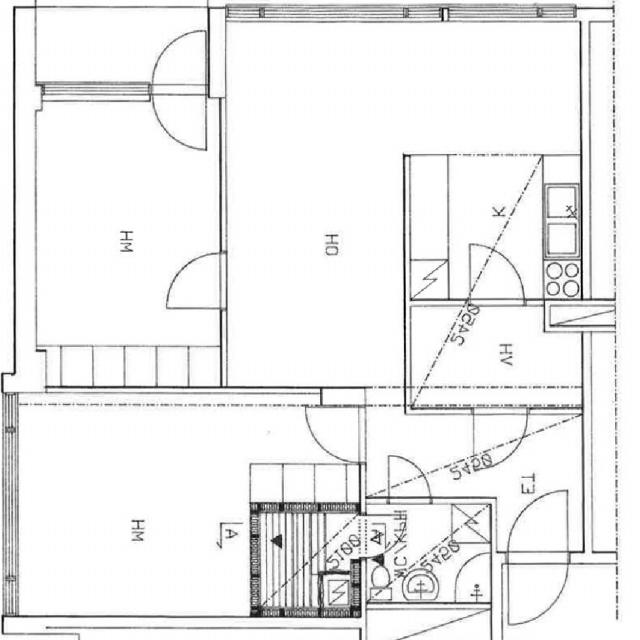door: (508, 489, 569, 564), (508, 552, 569, 625), (152, 84, 207, 150), (152, 29, 207, 94), (473, 408, 528, 469), (470, 244, 524, 306), (167, 252, 226, 308), (308, 408, 367, 462), (390, 455, 430, 503), (361, 515, 406, 557)
